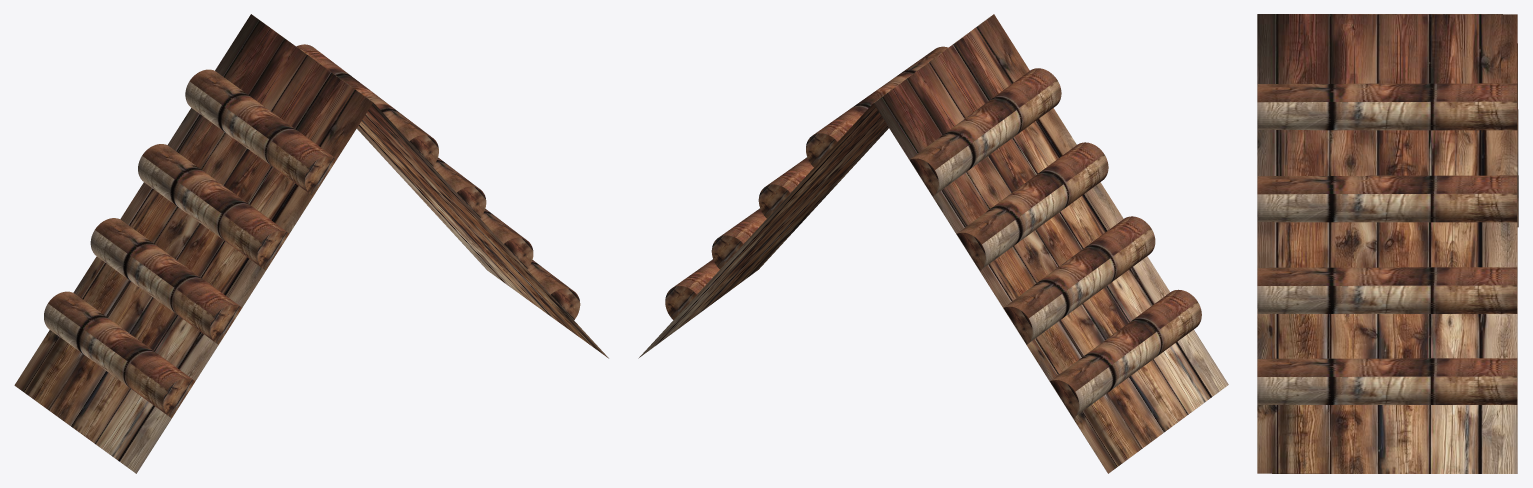
Rendered from A-este%20avo3D.glb.
3 renders of one model, left to right at view 1: azimuth 30°, elevation 25°; view 2: azimuth 150°, elevation 25°; view 3: azimuth 270°, elevation 25°, orthographic. The views are drawn at different scales.
Parts seen in each view (by area): view 1: Cylinder.003; view 2: Cylinder.003; view 3: Cylinder.003.
Boxes of the visible parts, x1,y1,x2,y2 form: Cylinder.003: [14, 14, 608, 473]; Cylinder.003: [638, 14, 1228, 473]; Cylinder.003: [1257, 14, 1518, 473].
Bounding box in the file's own units: 0.7431 × 0.4723 × 0.3323.
Materials: 1 (1 with a texture image).
